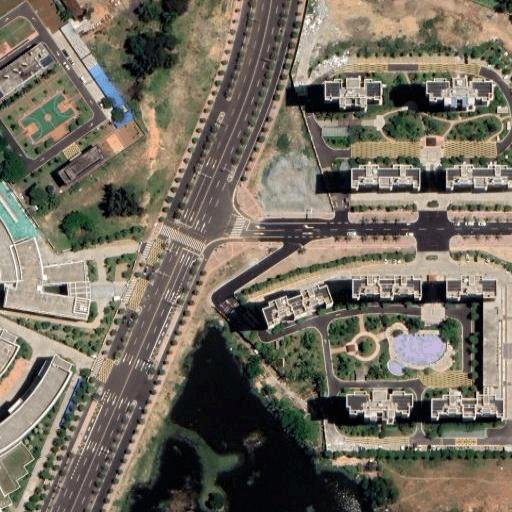building: (0, 241, 87, 323), (0, 358, 70, 456), (263, 287, 335, 330), (0, 44, 51, 98), (345, 393, 412, 426), (57, 144, 107, 185), (0, 442, 31, 507), (483, 284, 502, 388), (424, 82, 488, 112), (39, 265, 87, 304), (432, 398, 503, 423), (88, 63, 124, 110), (352, 167, 421, 191), (446, 168, 512, 193), (323, 83, 379, 112), (355, 278, 421, 302), (446, 278, 496, 303), (61, 21, 91, 60), (57, 380, 81, 426), (0, 227, 19, 285), (0, 333, 18, 380), (60, 0, 85, 21), (112, 108, 136, 129), (320, 125, 348, 141), (81, 54, 98, 70), (355, 370, 366, 381), (345, 344, 356, 353), (27, 208, 35, 217), (427, 137, 435, 146), (427, 274, 434, 281), (48, 185, 54, 191)
